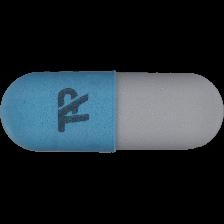64764-171: (0, 0, 224, 224)
